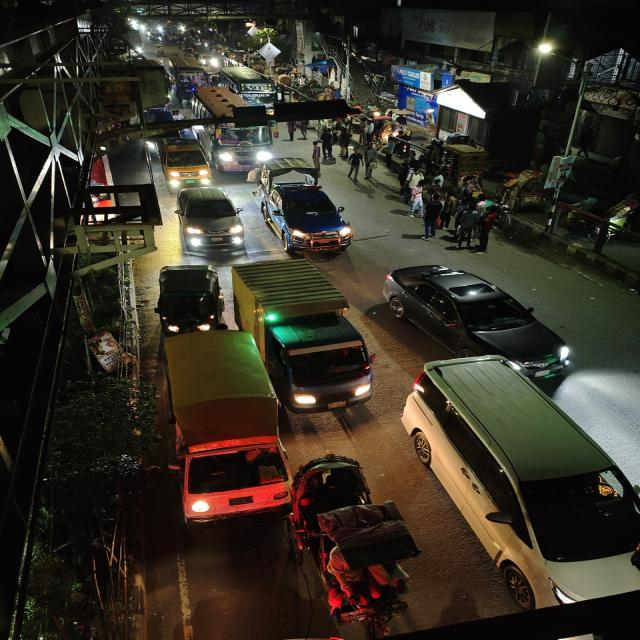bus: (204, 104, 274, 170), (231, 69, 273, 109), (172, 61, 209, 100)
car: (418, 358, 640, 609), (379, 261, 579, 387), (254, 164, 369, 258), (169, 185, 254, 258)
cng: (149, 265, 226, 337)
human_hauler: (142, 332, 290, 510)
pedestrian: (384, 150, 417, 188), (479, 208, 500, 252), (436, 188, 456, 232), (455, 206, 475, 248), (361, 140, 381, 180), (422, 192, 438, 239), (307, 142, 328, 174), (413, 181, 427, 221), (344, 146, 361, 178), (319, 128, 335, 161), (340, 129, 354, 160), (285, 119, 301, 144), (407, 168, 419, 192), (300, 120, 311, 140)
pickup_van: (157, 140, 213, 184)
rickshaw: (280, 464, 410, 632)
truck: (225, 257, 384, 406)
